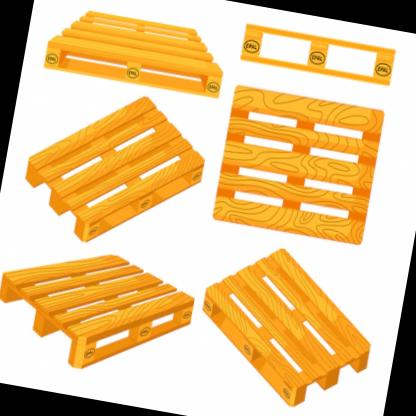BoxFace: (210, 82, 385, 247), (202, 247, 370, 409), (24, 95, 205, 244), (0, 251, 195, 371), (42, 7, 222, 100), (240, 19, 396, 87)
